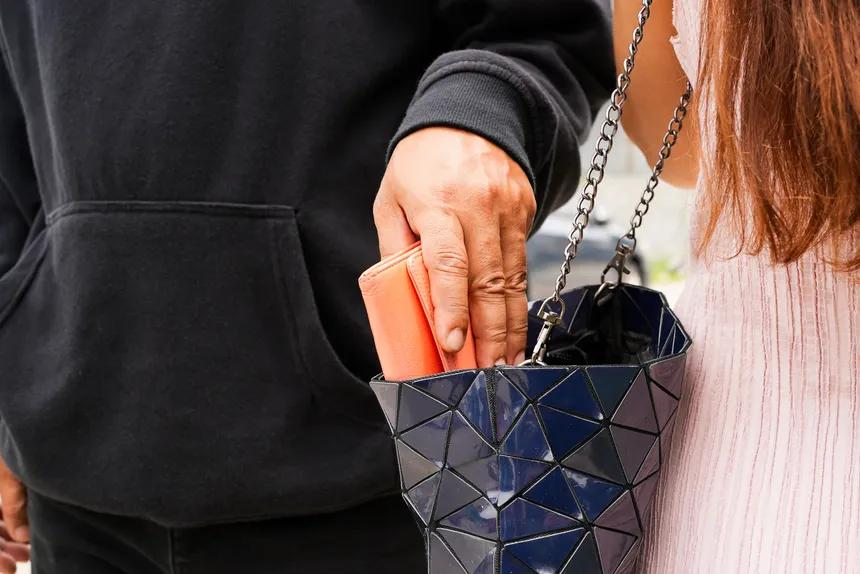shoplifting: (241, 31, 706, 557)
